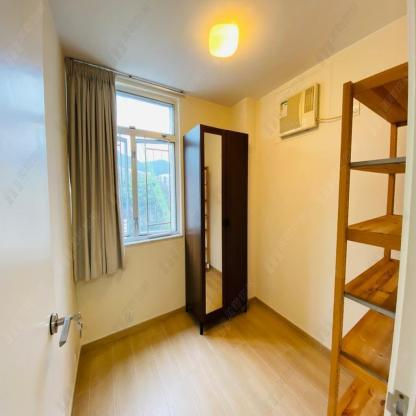AC: (278, 83, 319, 138)
Closet: (183, 122, 248, 335)
